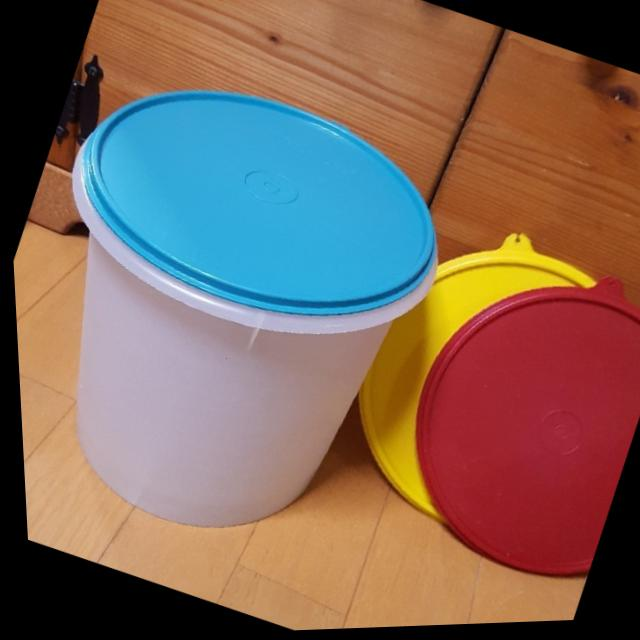plastic: (3, 32, 480, 586), (315, 196, 640, 604)
